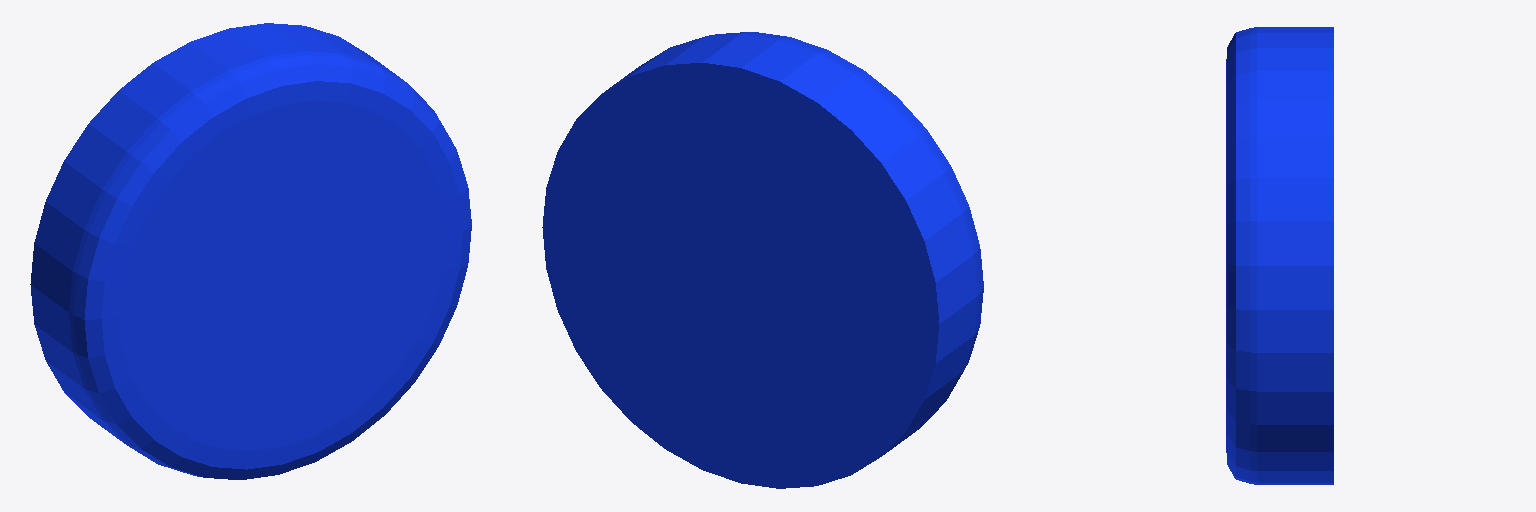
3 views of the same model, side by side, from view 1: azimuth 30°, elevation 25°; view 2: azimuth 150°, elevation 25°; view 3: azimuth 270°, elevation 25° (orthographic).
Parts seen in each view (by area): view 1: blue_button; view 2: blue_button; view 3: blue_button.
Part boxes in pixels (left/top/right/bottom): blue_button: left=30, top=23, right=471, bottom=479; blue_button: left=542, top=32, right=983, bottom=488; blue_button: left=1226, top=27, right=1333, bottom=484.
Size of the model in its own units: 0.8951 by 0.8951 by 0.2111.
Materials: 2 (1 with a texture image).